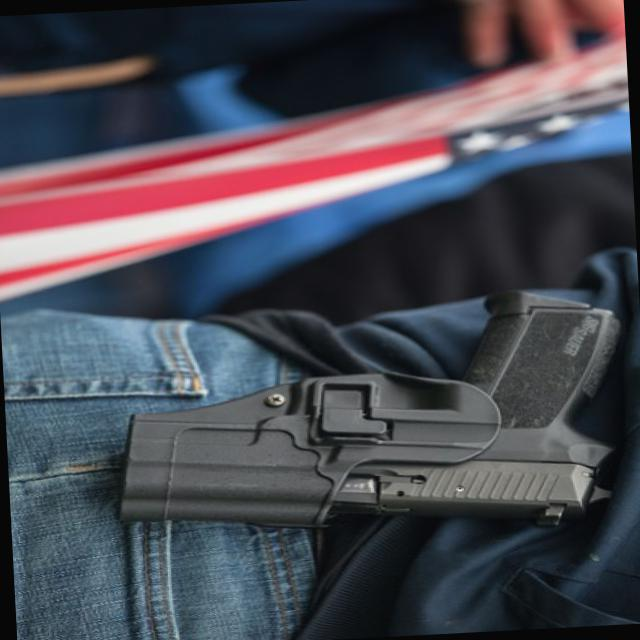handgun: (86, 280, 634, 562)
